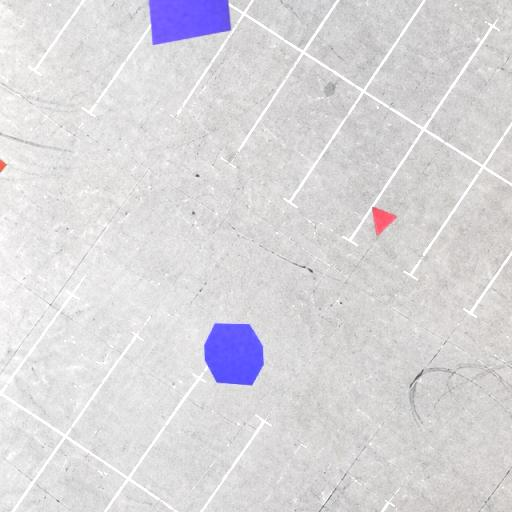BLUE_SQUARE: (146, 0, 232, 46)
